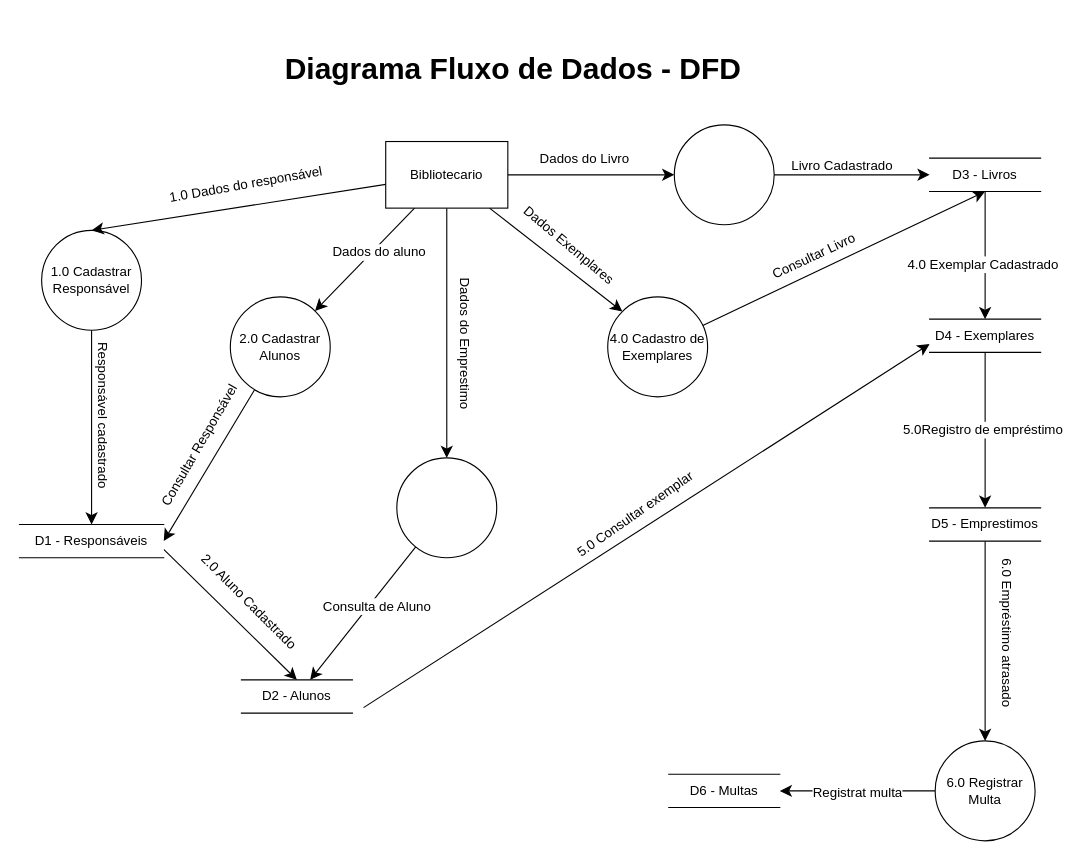
This 1081x860 diagram has some shape labels left out. The shapes that lost their labels are listed below. From the top down, each one's centre as x and y in pixels, then its label:
At point 723,174: "3.0 Cadastro de Livros".
At point 446,507: "5.0 Registrar emprestimo".
